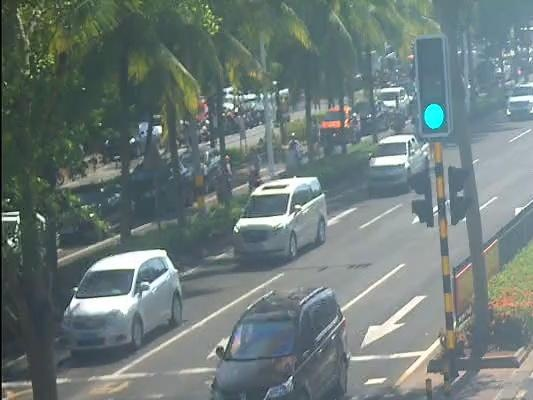green: (417, 102, 453, 134)
